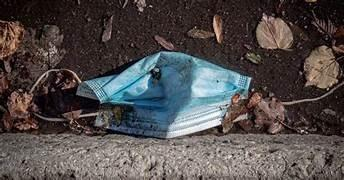Mask: (77, 52, 250, 137)
